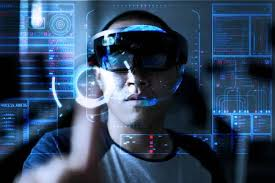hololens: (85, 24, 190, 77)
